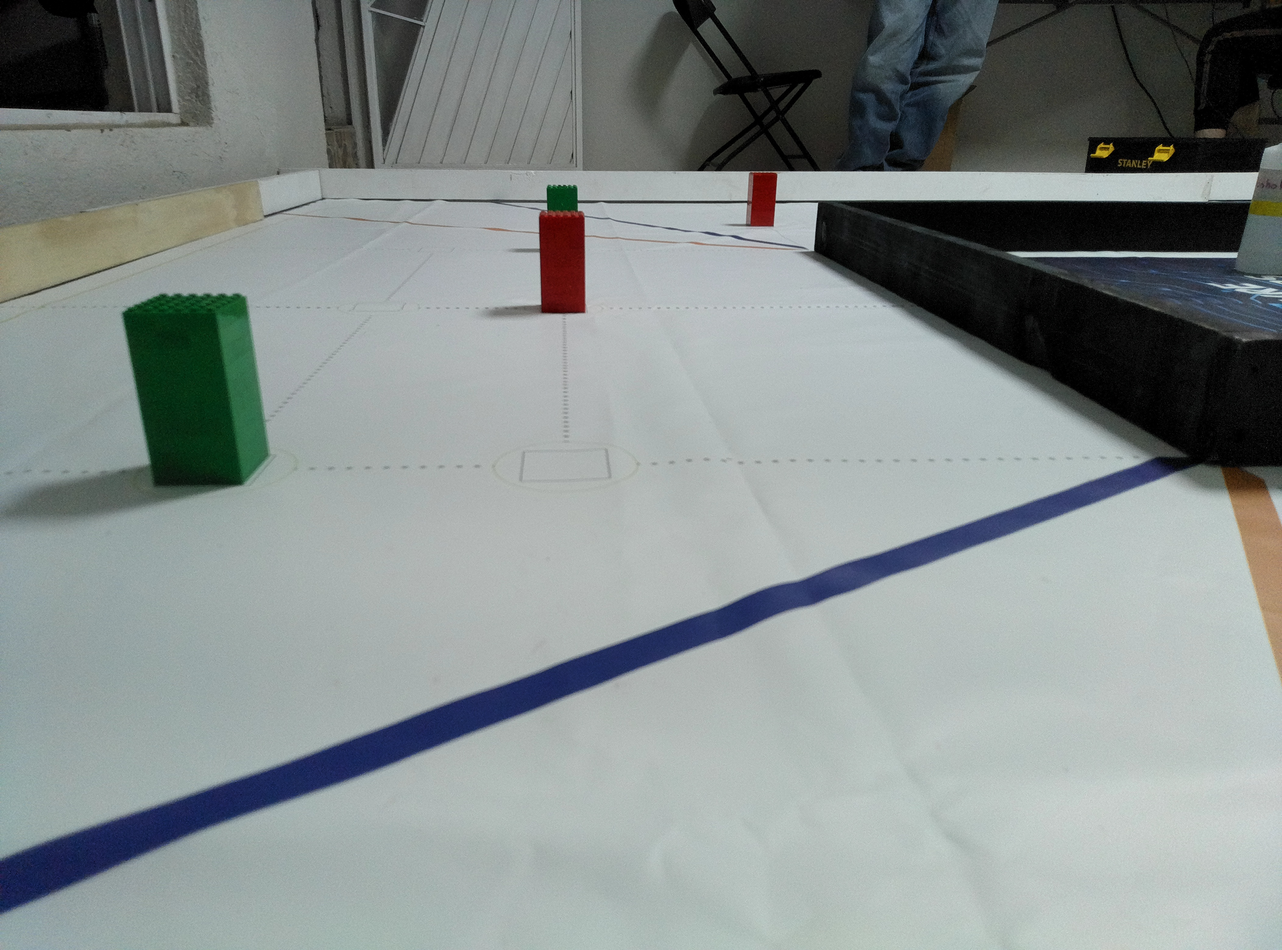greenbox: (121, 289, 273, 489), (546, 184, 579, 214)
redbox: (538, 209, 586, 314), (745, 171, 778, 227)
